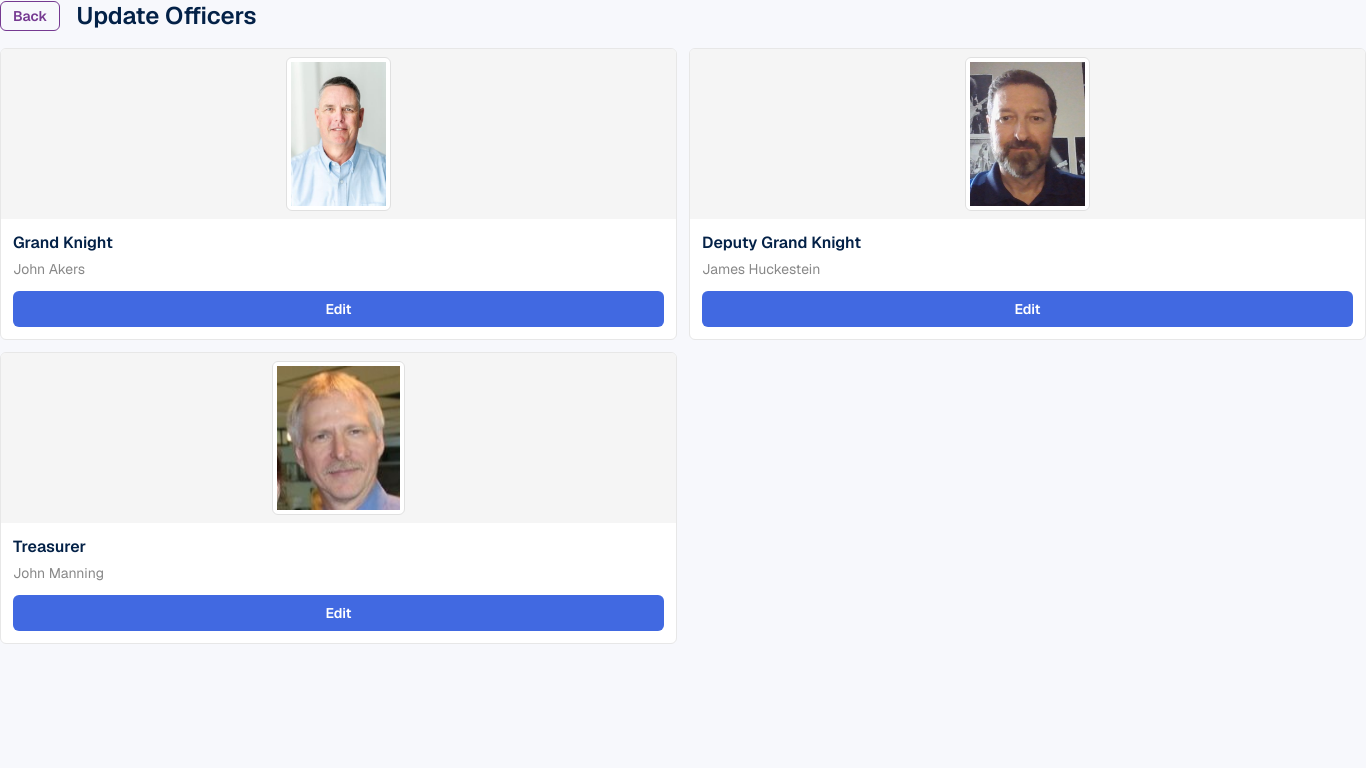
it: OfficersUpdate › opens the edit modal when Edit is clicked
The image size is (1366, 768).
Expected: the text "Grand Knight" is shown, [13, 232, 113, 253]
Click the button "Edit" below "John Akers".
click(338, 309)  # box [13, 291, 664, 327]
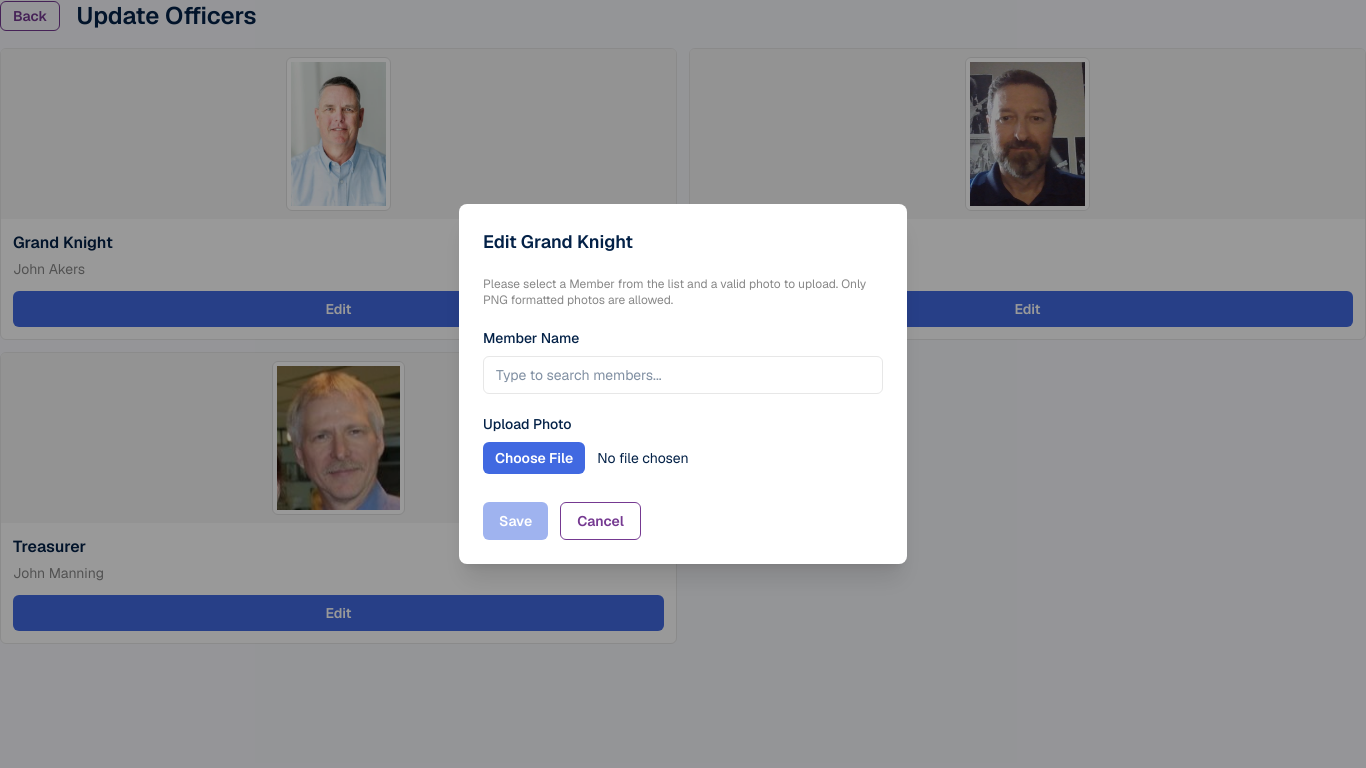
Now the heading "Edit Grand Knight" is shown, box [483, 230, 633, 253]
